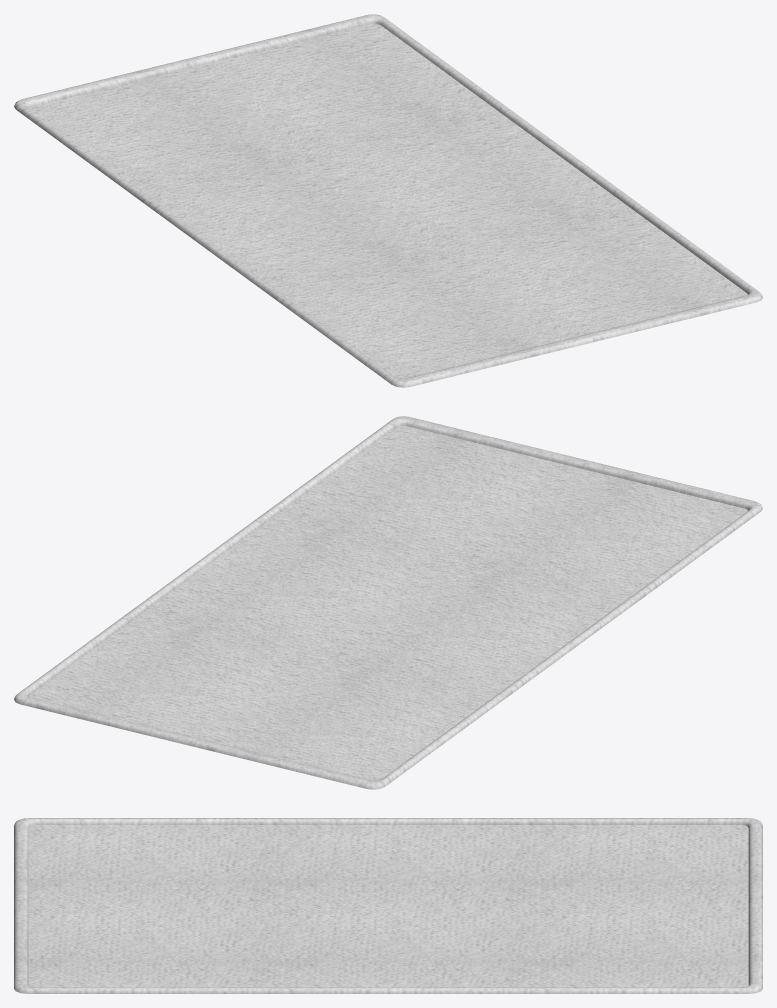
The model's file is ground.glb.
3 views of the same model, one above another, from view 1: azimuth 30°, elevation 25°; view 2: azimuth 150°, elevation 25°; view 3: azimuth 270°, elevation 25° (orthographic). The views are drawn at different scales.
Parts seen in each view (by area): view 1: ground; view 2: ground; view 3: ground.
Boxes of the visible parts, x1,y1,x2,y2 form: ground: [14, 14, 762, 387]; ground: [14, 416, 762, 789]; ground: [14, 818, 762, 993].
Bounding box in the file's own units: 14.28 × 0.16 × 26.08.
1 material, 1 textured.
